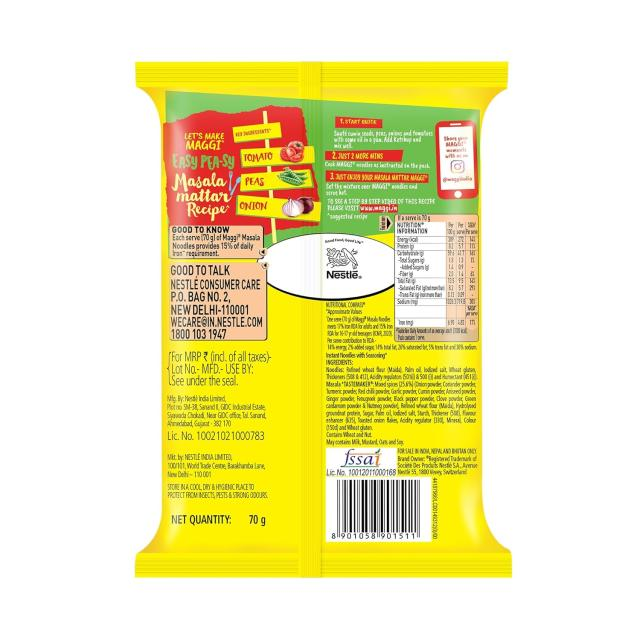maggi: (102, 34, 560, 604)
